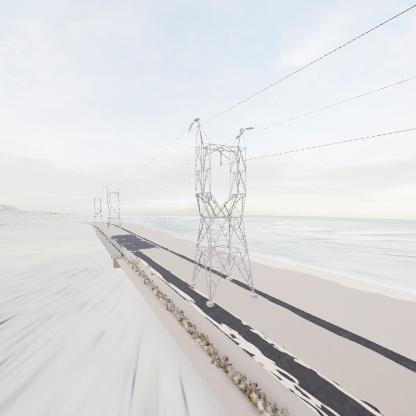tower: (183, 117, 261, 313)
